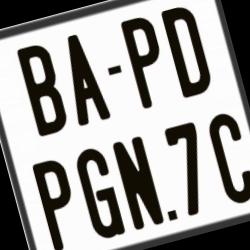7: (163, 122, 216, 217)
A: (56, 30, 115, 129)
B: (16, 40, 73, 138)
C: (203, 108, 250, 206)
D: (160, 4, 214, 100)
G: (73, 144, 128, 243)
N: (112, 134, 166, 229)
P: (120, 12, 176, 110), (32, 156, 87, 250)
